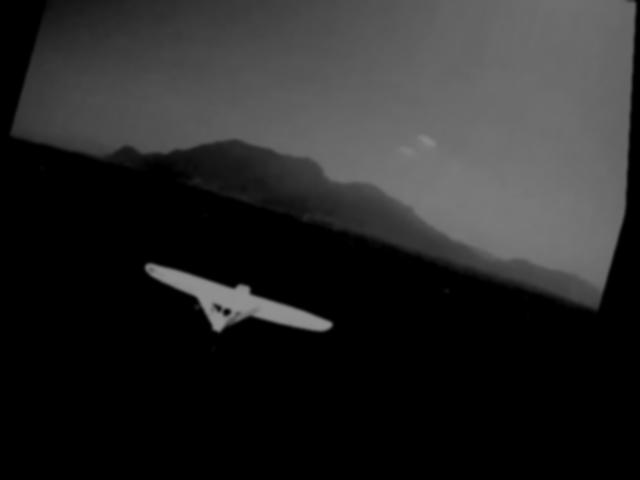hedef: (124, 233, 353, 395)
